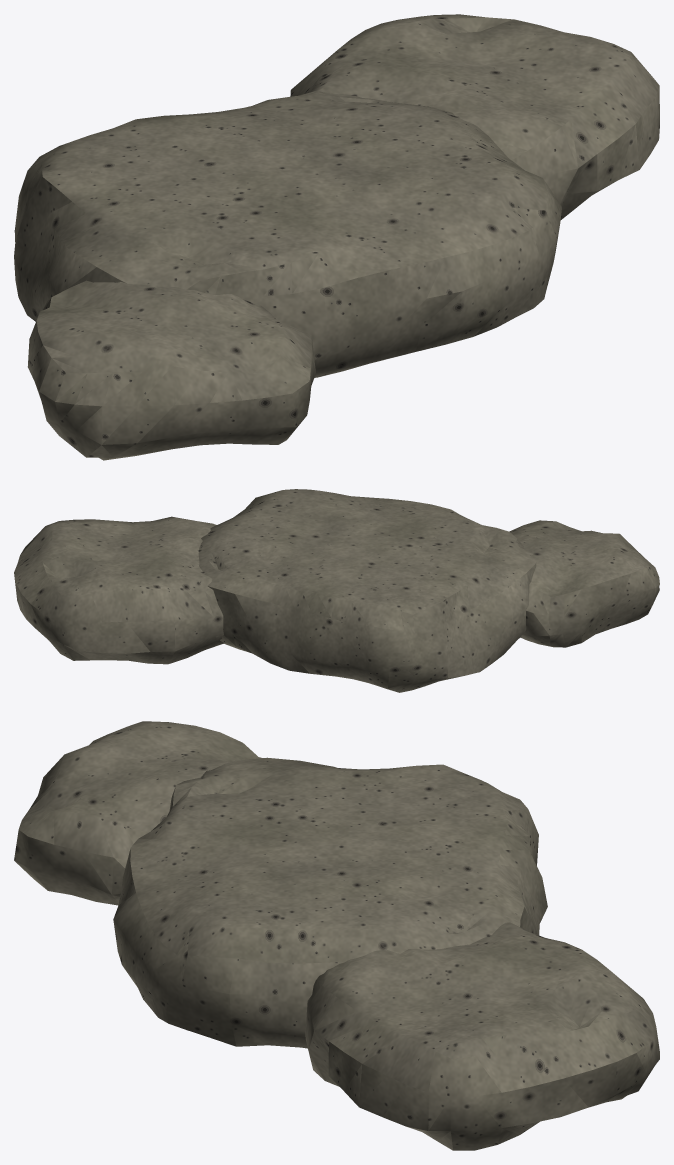
3 views of the same model, one above another, from view 1: azimuth 30°, elevation 25°; view 2: azimuth 150°, elevation 25°; view 3: azimuth 270°, elevation 25° (orthographic). The views are drawn at different scales.
Visible parts, largest first — view 1: rock_wet; view 2: rock_wet; view 3: rock_wet.
Part boxes in pixels (left/top/right/bottom): rock_wet: left=14, top=14, right=659, bottom=460; rock_wet: left=14, top=489, right=659, bottom=692; rock_wet: left=14, top=721, right=659, bottom=1150.
Size of the model in its own units: 4.82 by 0.827 by 3.67.
1 material, 1 textured.
